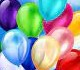Balloon: (2, 28, 29, 66), (31, 36, 59, 70), (16, 3, 41, 35)
